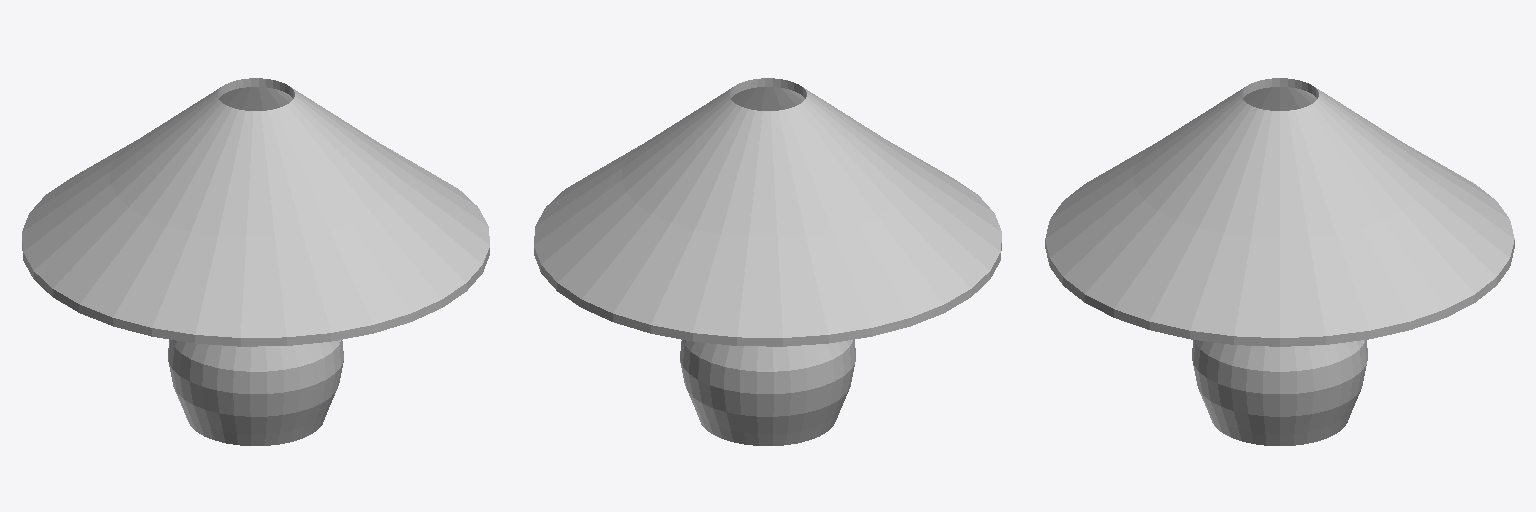
The model's file is Lamp.obj.
The picture shows the model from 3 angles: view 1: azimuth 30°, elevation 25°; view 2: azimuth 150°, elevation 25°; view 3: azimuth 270°, elevation 25°; orthographic projection.
Visible parts, largest first — view 1: Shield_Cylinder.001, Socket_Cylinder; view 2: Shield_Cylinder.001, Socket_Cylinder; view 3: Shield_Cylinder.001, Socket_Cylinder.
Boxes of the visible parts, <box> form: Shield_Cylinder.001: <box>22,78,489,346</box>; Socket_Cylinder: <box>168,339,343,445</box>; Shield_Cylinder.001: <box>534,78,1001,346</box>; Socket_Cylinder: <box>680,339,855,445</box>; Shield_Cylinder.001: <box>1045,78,1514,346</box>; Socket_Cylinder: <box>1192,340,1367,445</box>.
Size of the model in its own units: 0.971 by 0.7362 by 0.971.